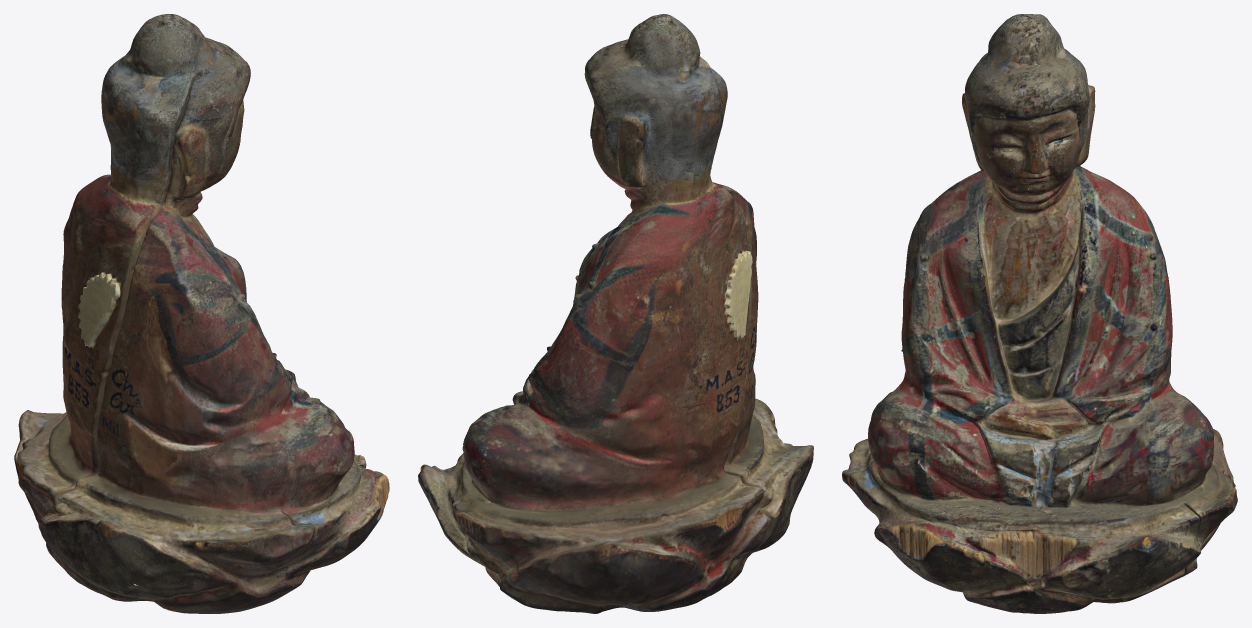
The model's file is buddha-high.glb.
3 renders of one model, left to right at view 1: azimuth 30°, elevation 25°; view 2: azimuth 150°, elevation 25°; view 3: azimuth 270°, elevation 25°, orthographic. The views are drawn at different scales.
Parts seen in each view (by area): view 1: tripo_node_542da2fc-0b5f-435c-aa15-f4fb89c8aab6; view 2: tripo_node_542da2fc-0b5f-435c-aa15-f4fb89c8aab6; view 3: tripo_node_542da2fc-0b5f-435c-aa15-f4fb89c8aab6.
Boxes of the visible parts, bbox=[...] form: tripo_node_542da2fc-0b5f-435c-aa15-f4fb89c8aab6: bbox=[14, 14, 389, 613]; tripo_node_542da2fc-0b5f-435c-aa15-f4fb89c8aab6: bbox=[418, 14, 813, 613]; tripo_node_542da2fc-0b5f-435c-aa15-f4fb89c8aab6: bbox=[842, 14, 1237, 613].
Size of the model in its own units: 0.5658 by 0.9786 by 0.6547.
Materials: 1 (1 with a texture image).
